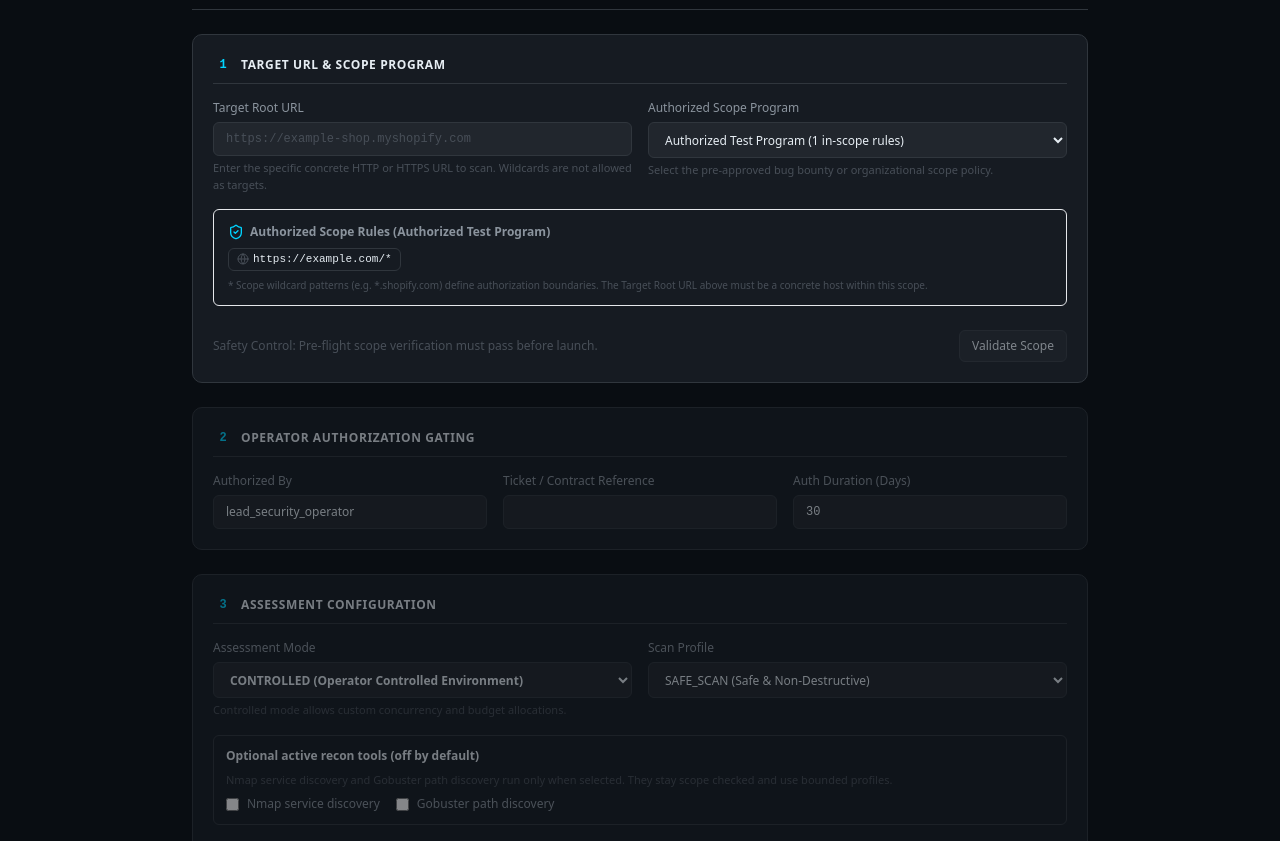
Test: Scope UI Safety Tests (Section 24) › displays OUT OF SCOPE — BLOCKED and disables launch when target is out of scope
// Enter out-of-scope target
Type "https://evil.com/leak" into the field with placeholder "https://example-shop.myshopify.com" at (422,139), box x1=213 y1=122 x2=632 y2=156
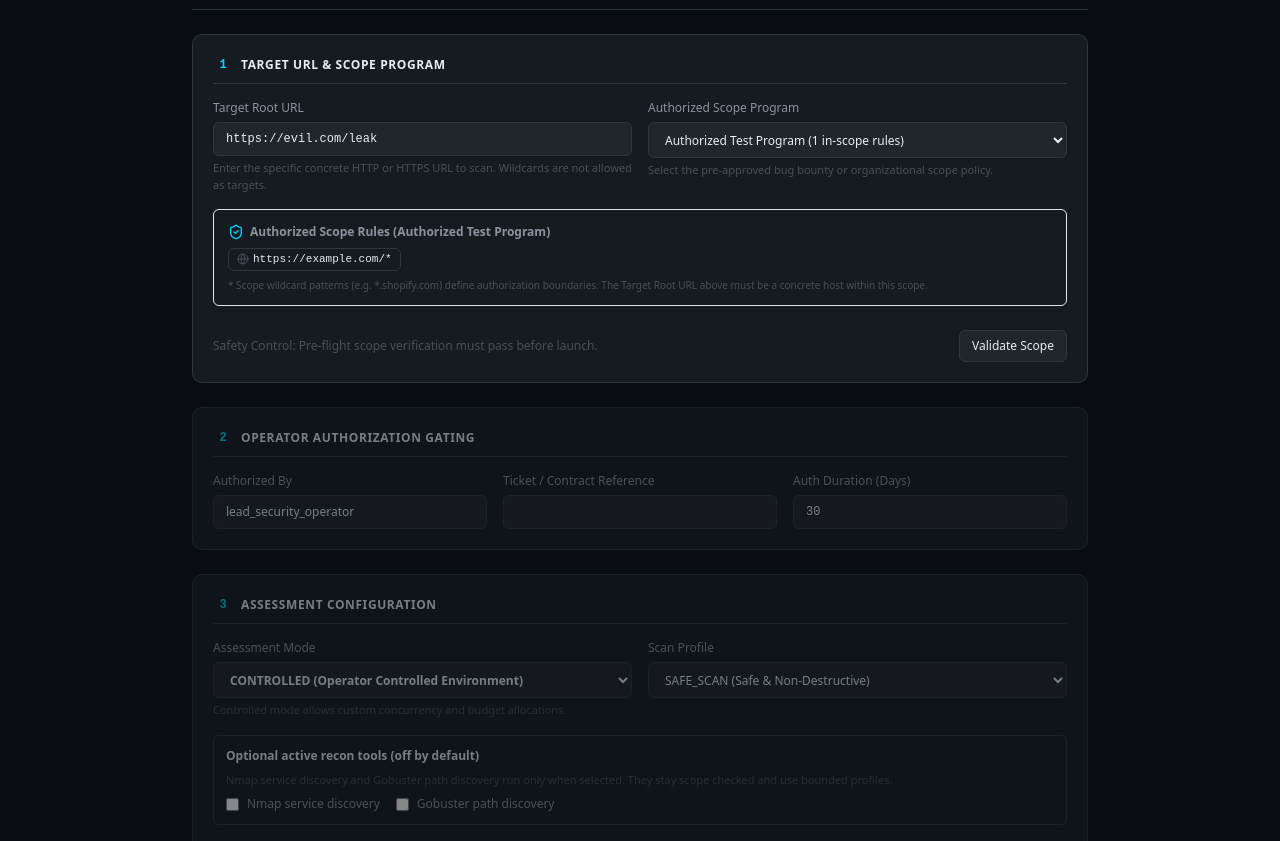
// Click Validate Scope
Click the button "Validate Scope" at (1013,346), box x1=959 y1=330 x2=1067 y2=362
(page scrolled)
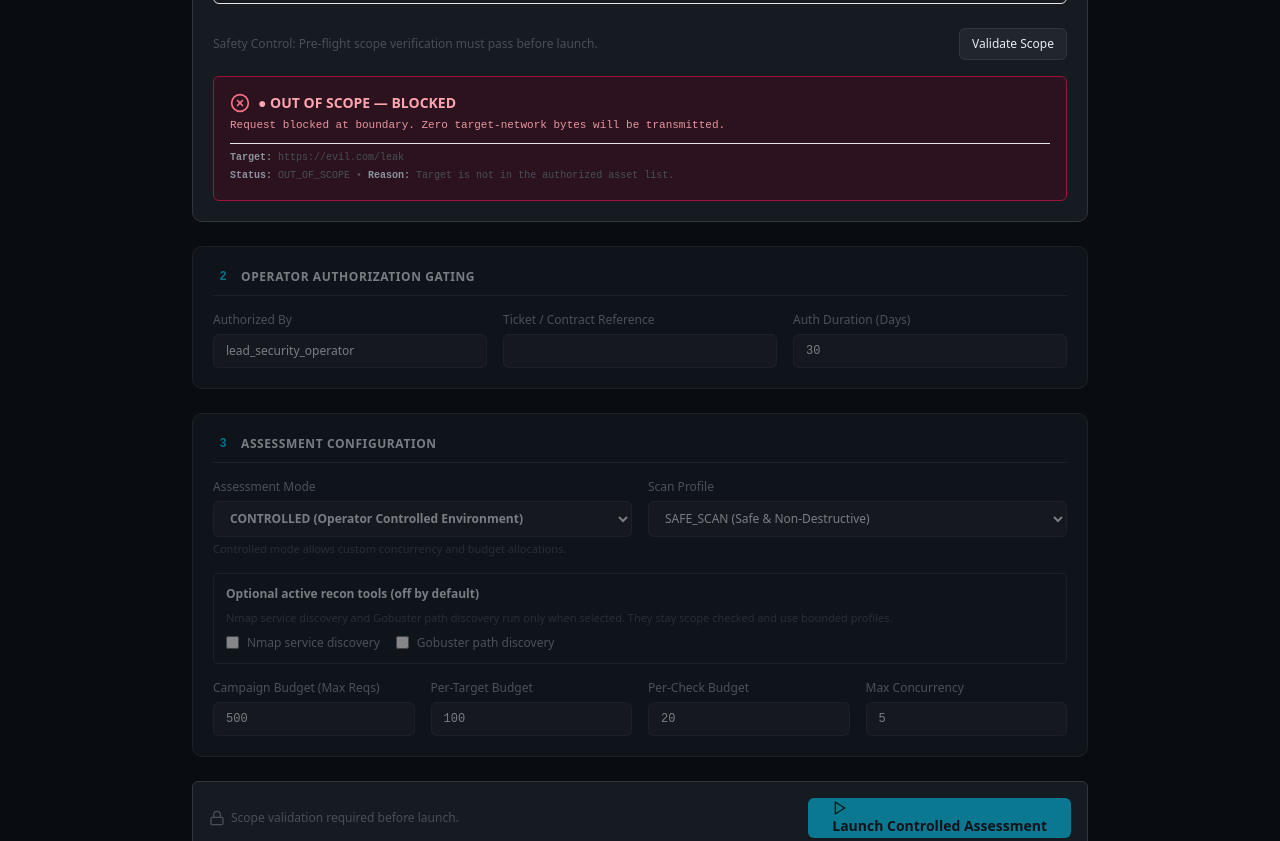
Check: the button "Launch Controlled Assessment" is disabled, box x1=808 y1=798 x2=1071 y2=838
Check: the text "● OUT OF SCOPE — BLOCKED" is shown, box x1=258 y1=93 x2=456 y2=113
